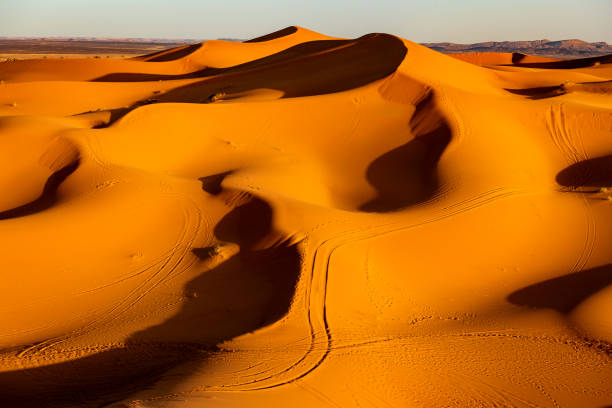vehicle_track: (154, 187, 527, 399), (208, 188, 522, 390), (16, 195, 202, 359), (570, 194, 596, 272)
